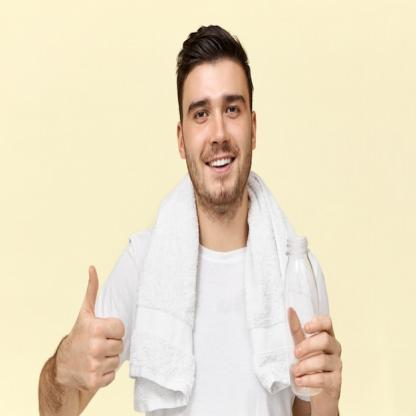thumb_up: (64, 262, 126, 392)
